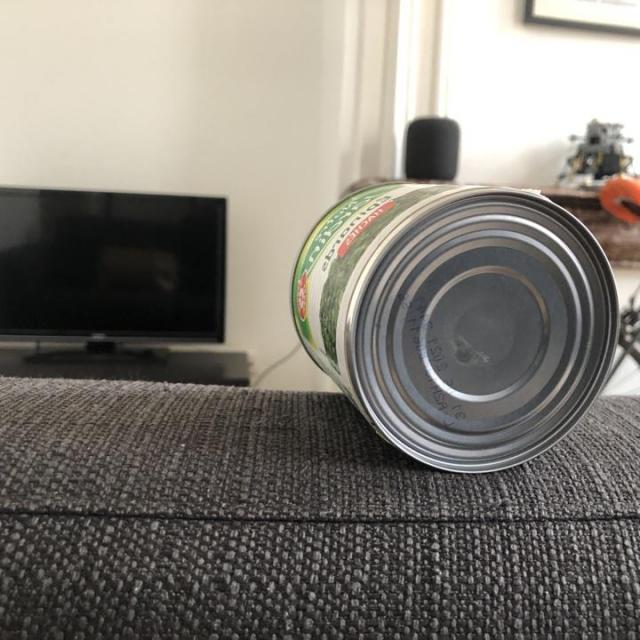metal: (286, 174, 624, 478)
